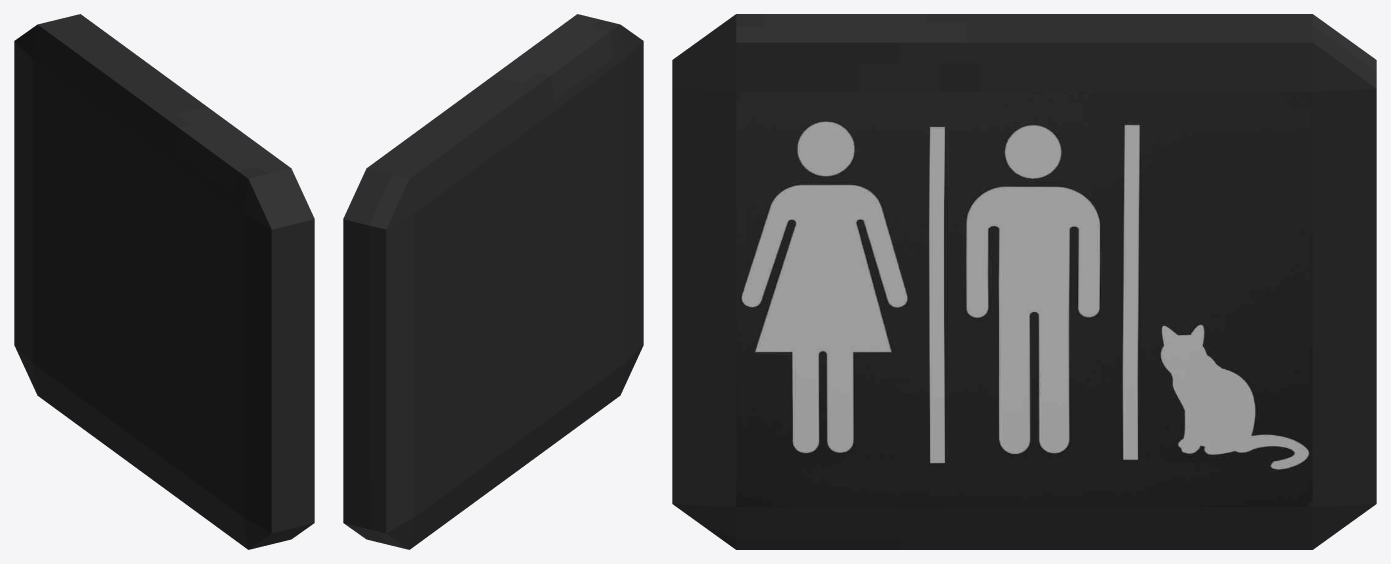
File: cat-gender.glb
The picture shows the model from 3 angles, left to right: view 1: azimuth 30°, elevation 25°; view 2: azimuth 150°, elevation 25°; view 3: azimuth 270°, elevation 25°; orthographic projection. The views are drawn at different scales.
Visible parts, largest first — view 1: Cube; view 2: Cube; view 3: Cube.
Boxes of the visible parts, <box> form: Cube: <box>14,14,314,549</box>; Cube: <box>343,14,643,549</box>; Cube: <box>672,14,1376,549</box>.
Bounding box in the file's own units: 0.2964 × 2 × 2.52.
1 material, 1 textured.
